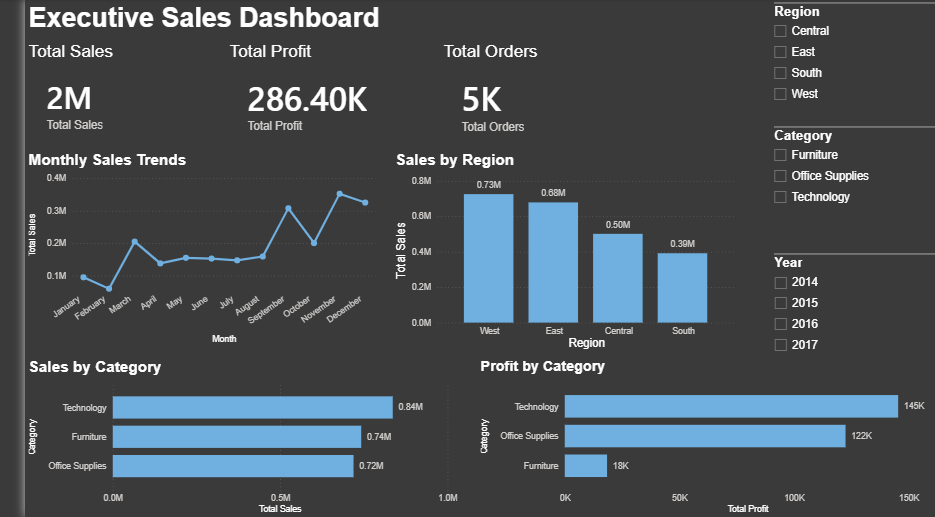

The page's visual inventory and layout, read from the dashboard file:
{"tool":"powerbi","page":{"name":"Executive Dashboard","canvas":[1280,720],"ordinal":0},"visuals":[{"type":"cardVisual","title":"Total Sales","fields":{"Data":["Sales Data.Total Sales"]},"box":[0,58.8,267.1,146.1],"z":0},{"type":"cardVisual","title":"Total Orders","fields":{"Data":["Sales Data.Total Orders"]},"box":[576.2,58.8,297.3,146.1],"z":1000},{"type":"cardVisual","title":"Total Profit","fields":{"Data":["Sales Data.Total Profit"]},"box":[278.8,58.8,282.2,146.1],"z":2000},{"type":"lineChart","title":"Monthly Sales Trends ","fields":{"Category":["Date Table.Month"],"Y":["Sales Data.Total Sales"]},"box":[0,211.7,492.2,273.8],"z":3000},{"type":"clusteredBarChart","title":"Sales by Category","fields":{"Category":["Sales Data.Category"],"Y":["Sales Data.Total Sales"]},"box":[0,498.9,606.4,221.7],"z":4000},{"type":"clusteredColumnChart","title":"Sales by Region","fields":{"Category":["Sales Data.Region"],"Y":["Sales Data.Total Sales"]},"box":[510.7,211.7,482.1,280.5],"z":5000},{"type":"clusteredBarChart","title":"Profit by Category","fields":{"Category":["Sales Data.Category"],"Y":["Sales Data.Total Profit"]},"box":[628.2,498.9,651.8,221.7],"z":6000},{"type":"slicer","fields":{"Values":["Sales Data.Region"]},"box":[1028,0,252,161.3],"z":7000},{"type":"slicer","fields":{"Values":["Sales Data.Category"]},"box":[1028,173,252,152.9],"z":8000},{"type":"slicer","fields":{"Values":["Date Table.Year"]},"box":[1028,349.4,252,149.5],"z":9000},{"type":"textbox","box":[0,0,534.2,58.8],"z":10000}]}

Visuals, with their boxes in screenshot pixels (x1, y1, x2, y2), scaled from the page's 1280x720 canvas onto the 935x517 screenshot:
"Total Sales" cardVisual: [x1=0, y1=42, x2=195, y2=147]
"Total Orders" cardVisual: [x1=421, y1=42, x2=638, y2=147]
"Total Profit" cardVisual: [x1=204, y1=42, x2=410, y2=147]
"Monthly Sales Trends " lineChart: [x1=0, y1=152, x2=360, y2=349]
"Sales by Category" clusteredBarChart: [x1=0, y1=358, x2=443, y2=516]
"Sales by Region" clusteredColumnChart: [x1=373, y1=152, x2=725, y2=353]
"Profit by Category" clusteredBarChart: [x1=459, y1=358, x2=934, y2=516]
slicer - Sales Data.Region: [x1=751, y1=0, x2=934, y2=116]
slicer - Sales Data.Category: [x1=751, y1=124, x2=934, y2=234]
slicer - Date Table.Year: [x1=751, y1=251, x2=934, y2=358]
textbox: [x1=0, y1=0, x2=390, y2=42]
